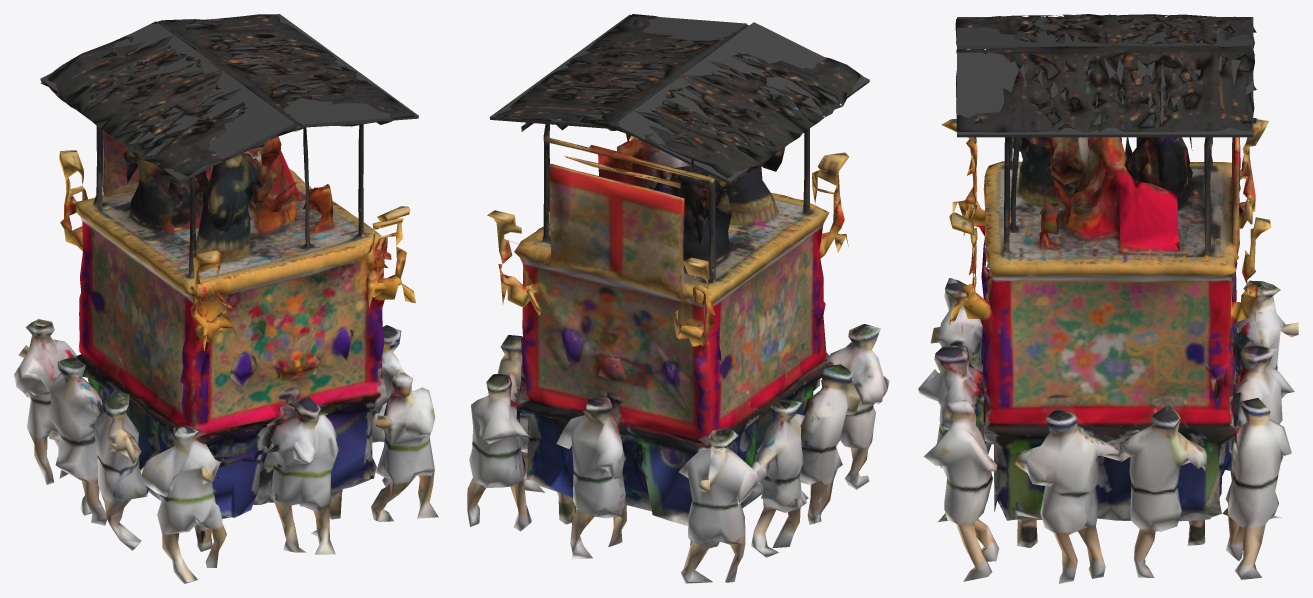
Rendered from 郭巨山.glb.
The picture shows the model from 3 angles, left to right: view 1: azimuth 30°, elevation 25°; view 2: azimuth 150°, elevation 25°; view 3: azimuth 270°, elevation 25°; orthographic projection. The views are drawn at different scales.
Visible parts, largest first — view 1: Mesh1.0, 平面.001, 平面; view 2: Mesh1.0, 平面.001, 平面; view 3: Mesh1.0, 平面, 平面.001.
Part boxes in pixels (<box>): Mesh1.0: <box>14,14,438,583</box>; 平面.001: <box>40,21,295,182</box>; 平面: <box>183,14,418,127</box>; Mesh1.0: <box>467,14,889,583</box>; 平面.001: <box>613,22,869,184</box>; 平面: <box>489,14,747,128</box>; Mesh1.0: <box>918,14,1298,583</box>; 平面: <box>957,52,1253,137</box>; 平面.001: <box>957,17,1253,48</box>.
Bounding box in the file's own units: 3.68 × 5.04 × 3.75.
Materials: 2 (1 with a texture image).
